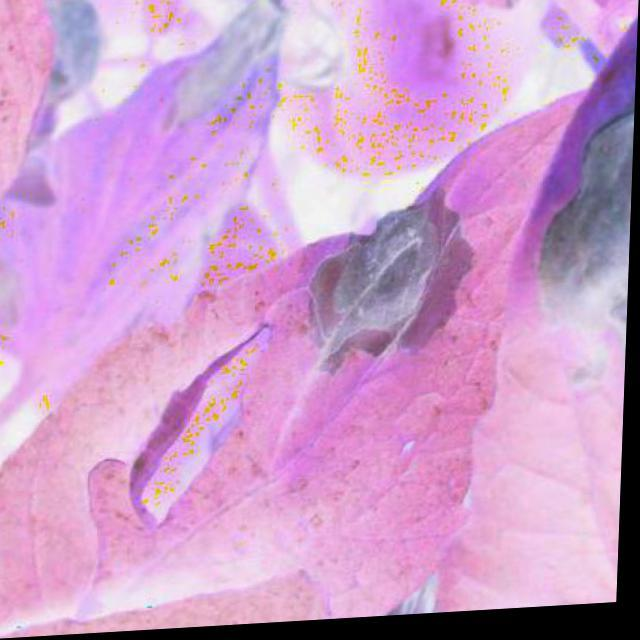Tomato mosaic virus leaf: (0, 145, 556, 632)
